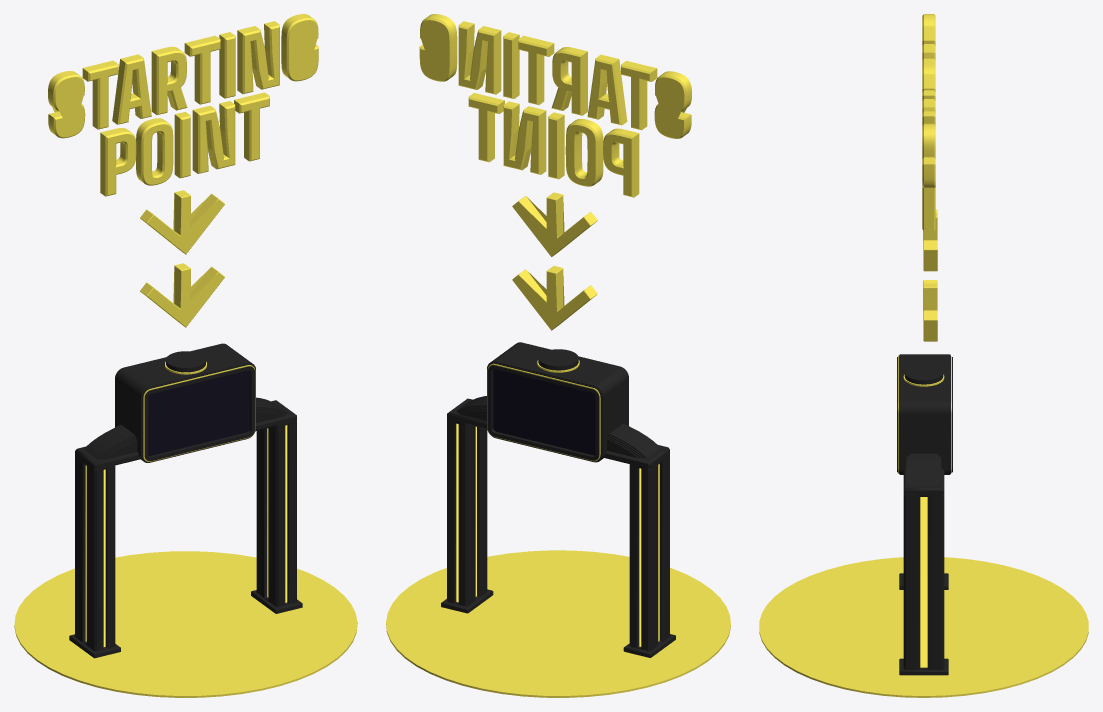
The model's file is Starting_point_v2.fbx.
3 views of the same model, side by side, from view 1: azimuth 30°, elevation 25°; view 2: azimuth 150°, elevation 25°; view 3: azimuth 270°, elevation 25° (orthographic). The views are drawn at different scales.
Visible parts, largest first — view 1: Cylinder_1, Starting, tv, Point, pillar_2, pillar_1, Fill, Fill_2, Extrude_2, arch, Cylinder_2; view 2: Cylinder_1, Starting, tv, Point, pillar_2, pillar_1, Fill_2, Fill, Extrude_2, arch, Cylinder_2; view 3: Cylinder_1, pillar_1, tv, Starting, Extrude_1, Fill_2, Cylinder_2, Fill, Point.
Boxes of the visible parts, bbox=[...] form: Cylinder_1: bbox=[14, 551, 357, 697]; Starting: bbox=[48, 14, 318, 138]; tv: bbox=[115, 343, 255, 462]; Point: bbox=[100, 92, 269, 196]; pillar_2: bbox=[75, 454, 115, 651]; pillar_1: bbox=[256, 419, 296, 606]; Fill: bbox=[140, 190, 224, 254]; Fill_2: bbox=[140, 263, 224, 327]; Extrude_2: bbox=[84, 425, 137, 459]; arch: bbox=[75, 400, 296, 467]; Cylinder_2: bbox=[166, 351, 205, 372]; Cylinder_1: bbox=[386, 550, 730, 697]; Starting: bbox=[419, 14, 691, 138]; tv: bbox=[487, 342, 628, 462]; Point: bbox=[468, 93, 639, 197]; pillar_2: bbox=[629, 453, 669, 650]; pillar_1: bbox=[447, 418, 487, 606]; Fill_2: bbox=[512, 266, 597, 330]; Fill: bbox=[512, 192, 597, 256]; Extrude_2: bbox=[607, 423, 660, 458]; arch: bbox=[447, 398, 669, 467]; Cylinder_2: bbox=[538, 349, 578, 370]; Cylinder_1: bbox=[759, 557, 1088, 697]; pillar_1: bbox=[903, 493, 944, 669]; tv: bbox=[897, 354, 952, 474]; Starting: bbox=[922, 14, 935, 188]; Extrude_1: bbox=[906, 453, 941, 485]; Fill_2: bbox=[923, 280, 937, 341]; Cylinder_2: bbox=[904, 364, 943, 384]; Fill: bbox=[923, 209, 937, 271]; Point: bbox=[922, 187, 935, 231].
Size of the model in its own units: 491 by 913 by 490.
